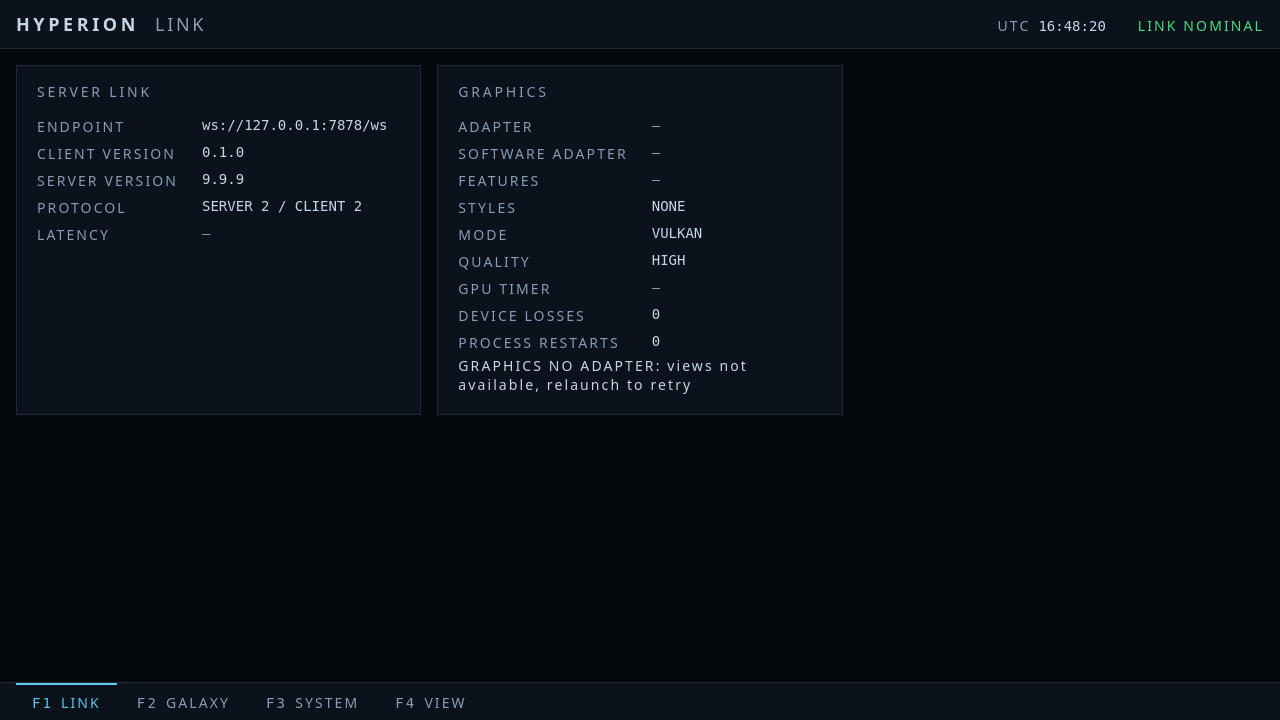
the GALAXY readout's stars › reads a death inside the clock window as DIES IN, from the answer's time
Press F2
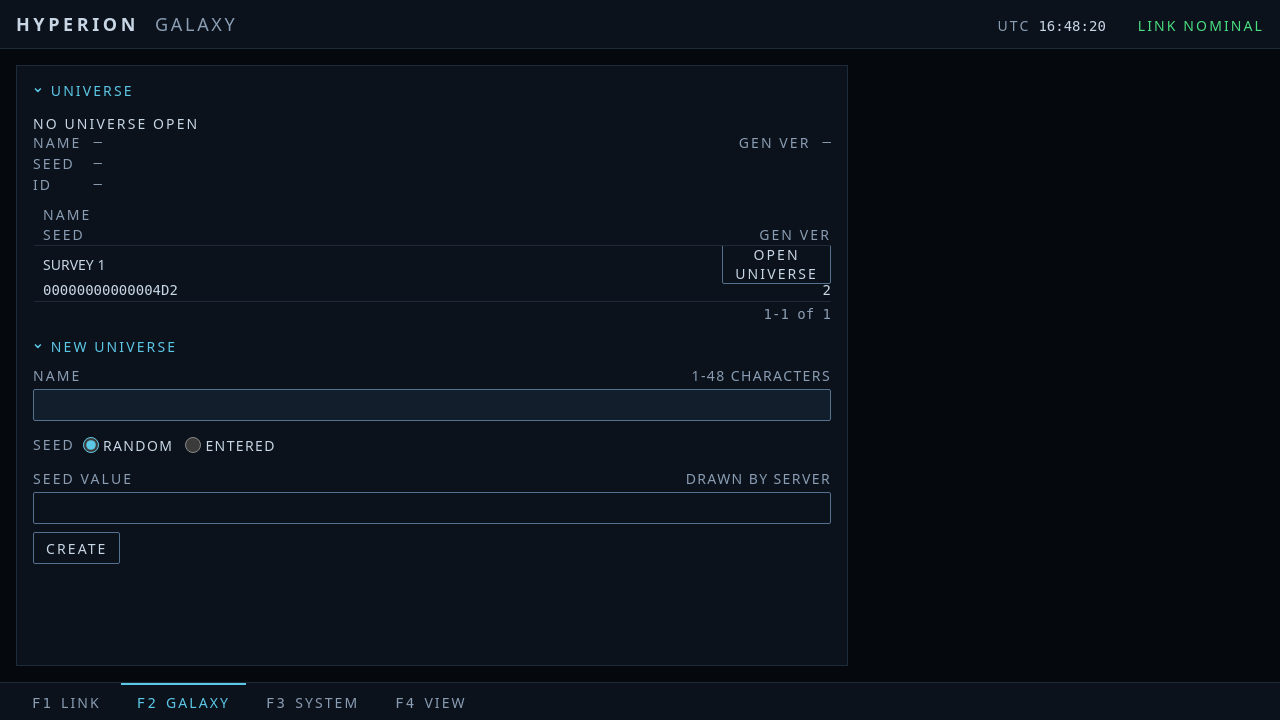
Click the button with aria-label "Open universe SURVEY 1": coordinates (777, 264) [722,244,831,284]
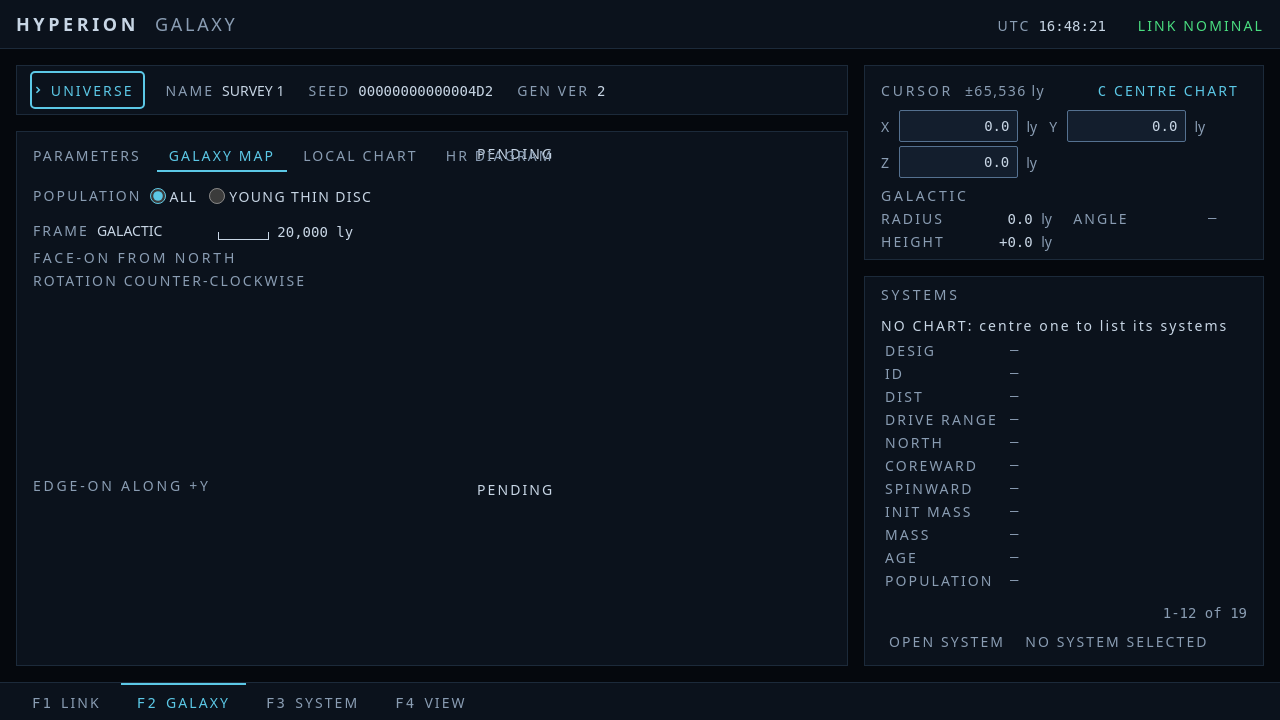
Replace the text in the field labelled "X" with "26000": coordinates (959, 126) [899,110,1018,142]
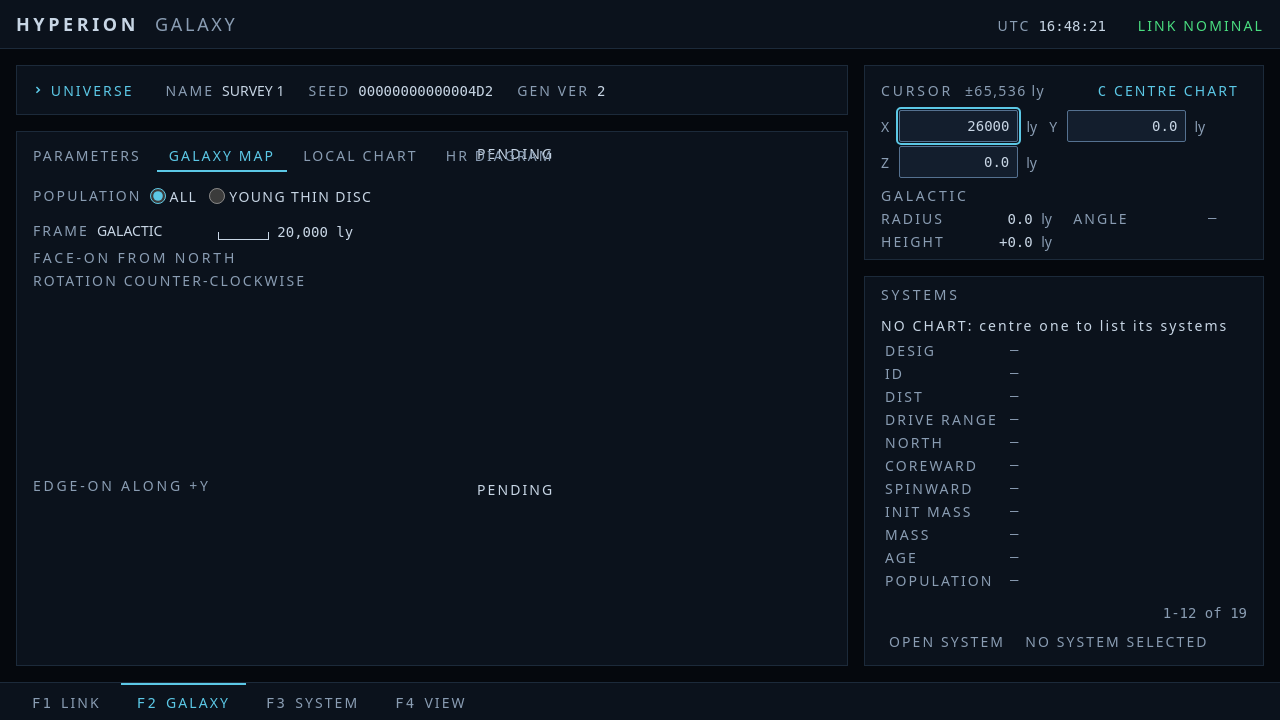
Click the button "C CENTRE CHART": coordinates (1168, 90) [1090,74,1247,106]
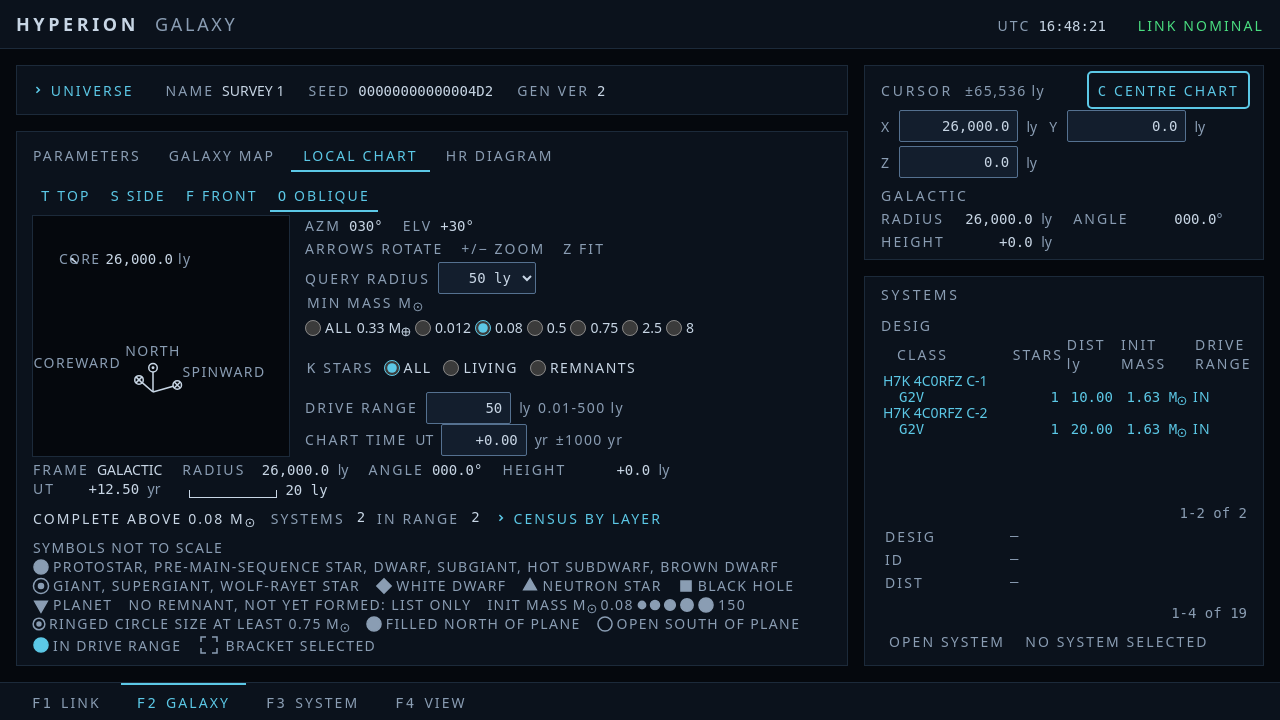
Click the option with aria-label "H7K 4C0RFZ C-1,": coordinates (935, 380) [881,373,1247,405]
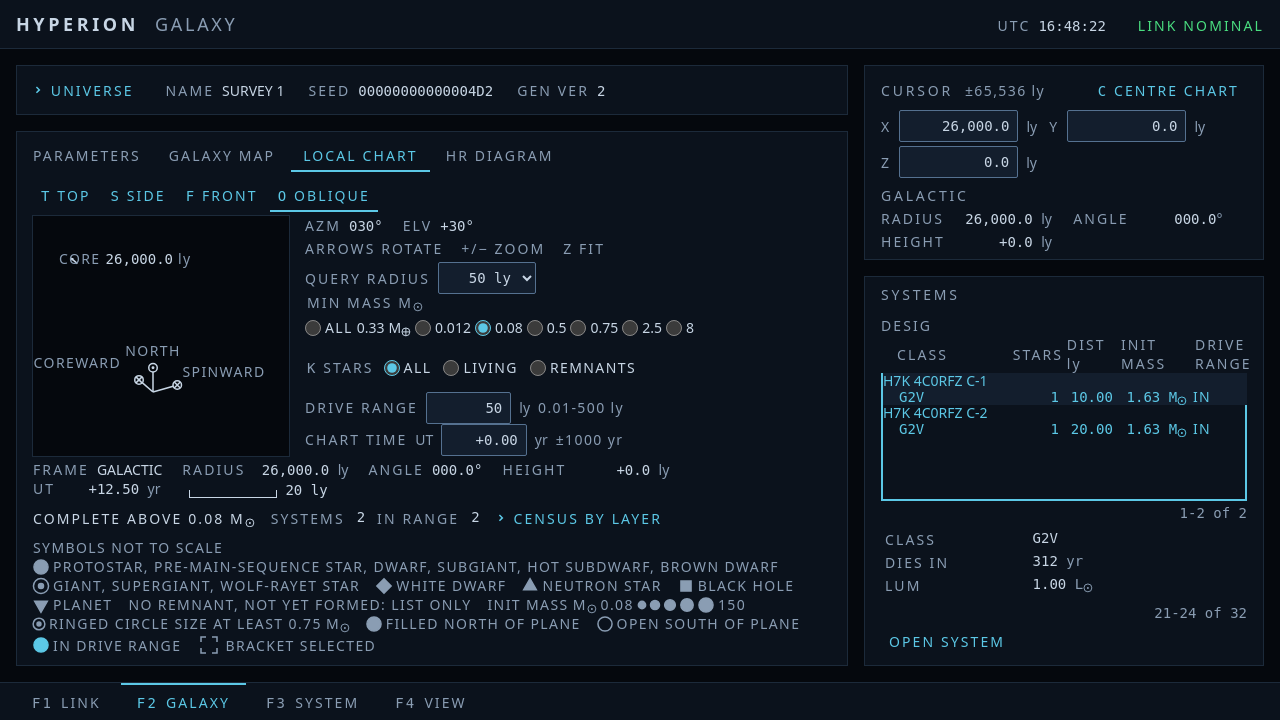
expect the element showing "312 yr" is shown: met, box [1032,553,1083,569]
